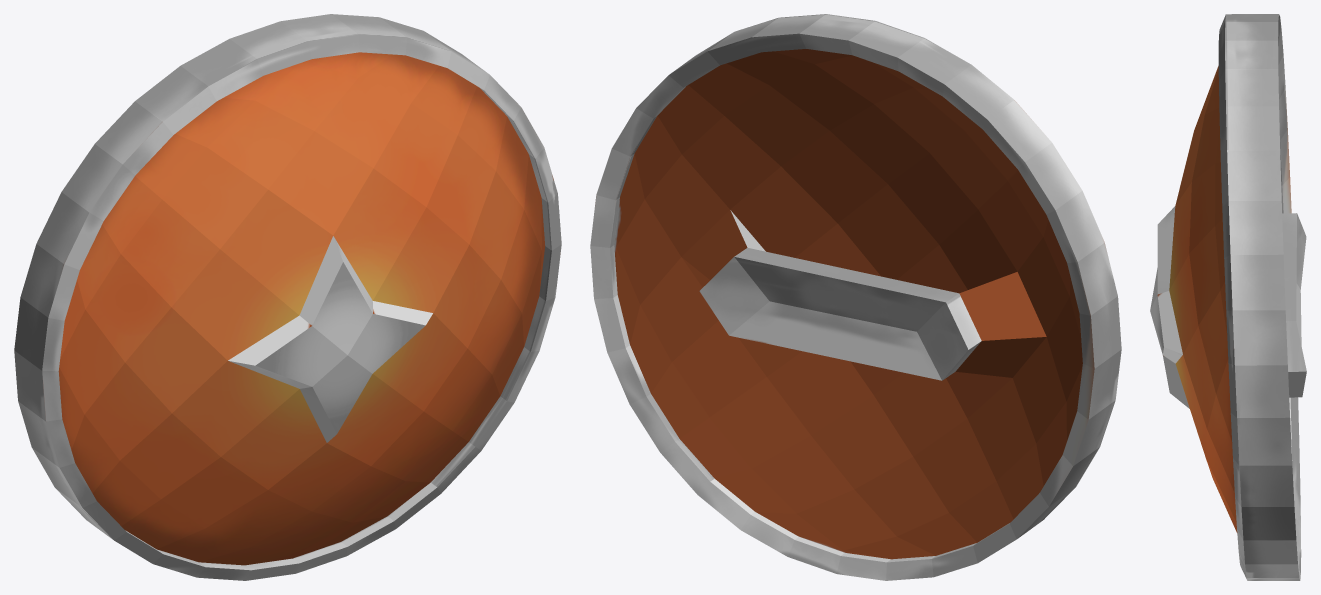
The model's file is Shield.glb.
3 renders of one model, left to right at view 1: azimuth 30°, elevation 25°; view 2: azimuth 150°, elevation 25°; view 3: azimuth 270°, elevation 25°, orthographic. The views are drawn at different scales.
Visible parts, largest first — view 1: Circle; view 2: Circle; view 3: Circle.
Part boxes in pixels (x1,y1,x2,y2): Circle: (14, 14, 561, 580); Circle: (590, 14, 1121, 580); Circle: (1150, 14, 1306, 580).
Size of the model in its own units: 2 by 1.99 by 0.5495.
Materials: 1 (1 with a texture image).
